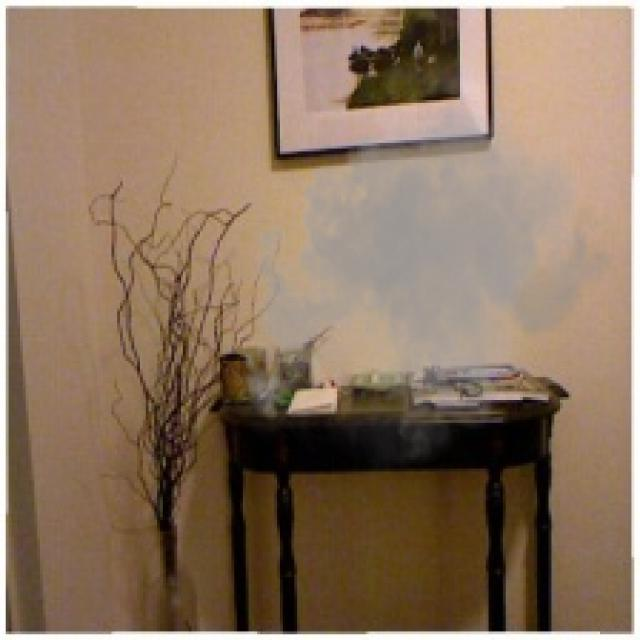smoke: (232, 80, 614, 486)
